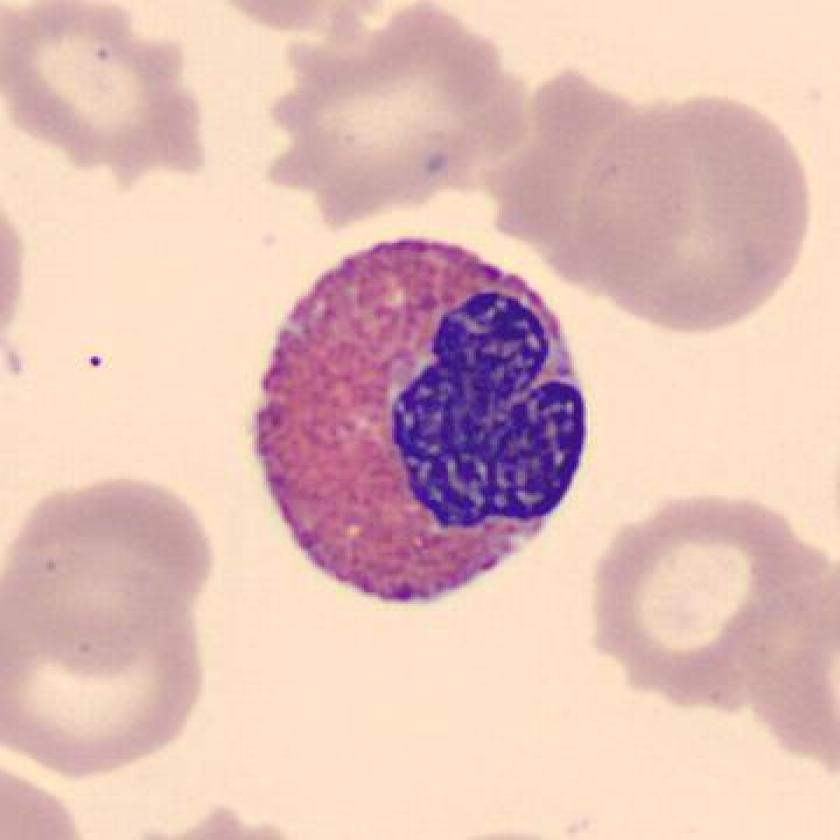eosinophil: (237, 223, 605, 624)
